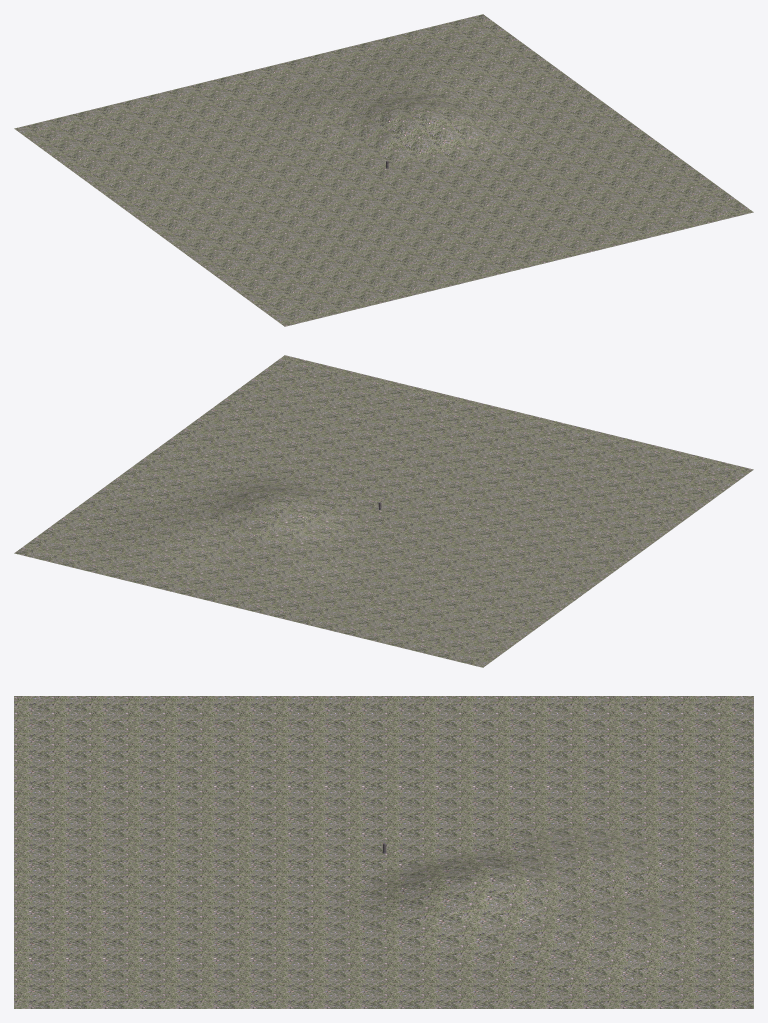
Rendered from mapfix.glb.
The picture shows the model from 3 angles, top to bottom: view 1: azimuth 30°, elevation 25°; view 2: azimuth 150°, elevation 25°; view 3: azimuth 270°, elevation 25°; orthographic projection. The views are drawn at different scales.
Visible parts, largest first — view 1: Plane; view 2: Plane; view 3: Plane.
Part boxes in pixels (x1,y1,x2,y2): Plane: [14, 14, 753, 326]; Plane: [14, 355, 753, 667]; Plane: [14, 696, 753, 1008].
Size of the model in its own units: 200 by 6.49 by 200.
Materials: 2 (2 with a texture image).
